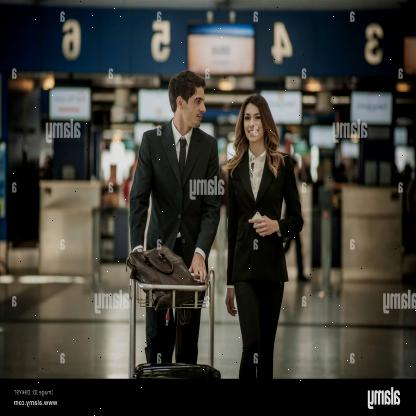airport-trolley: (128, 267, 222, 380)
